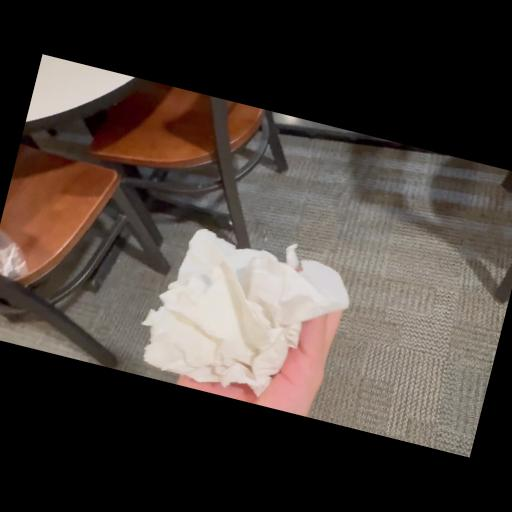napkin: (130, 209, 365, 414)
